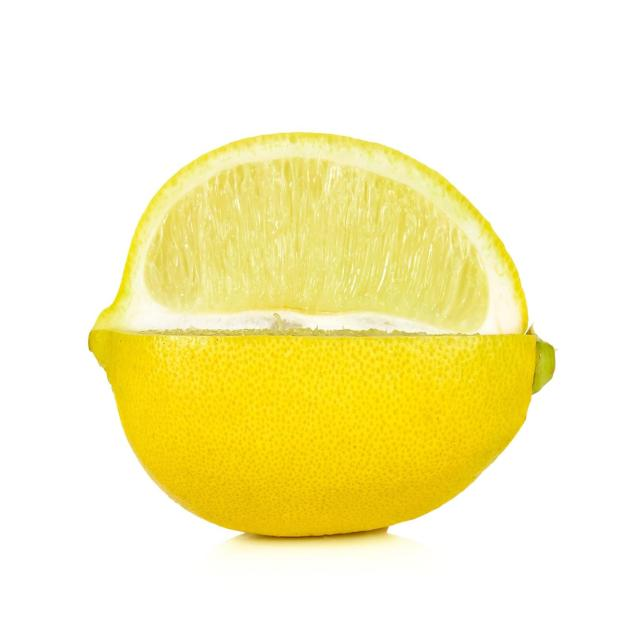lemon: (80, 115, 561, 551)
